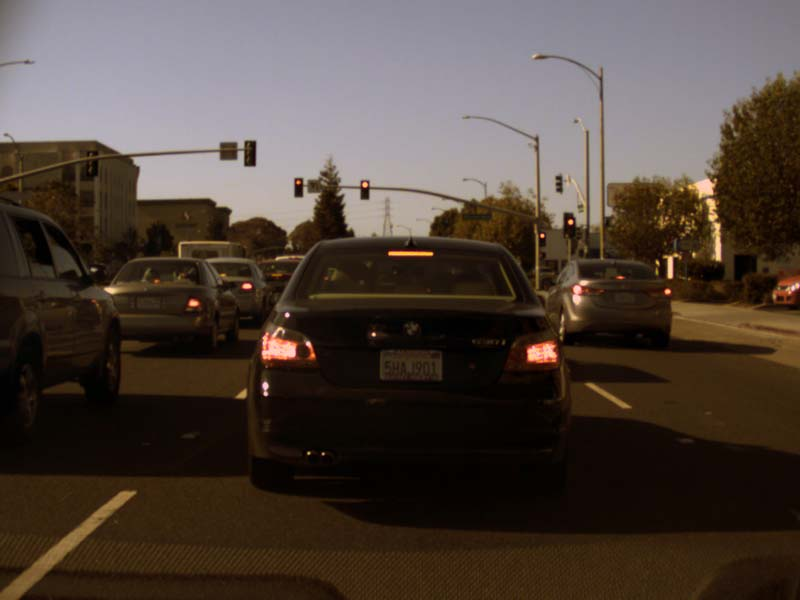Red: (563, 216, 575, 238), (360, 179, 369, 200), (294, 177, 303, 196), (538, 231, 545, 247)
